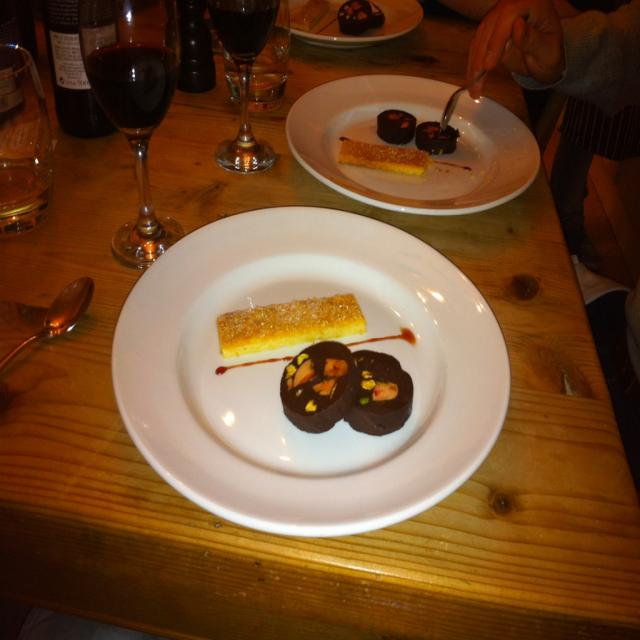non-organic waste: (116, 213, 514, 542)
